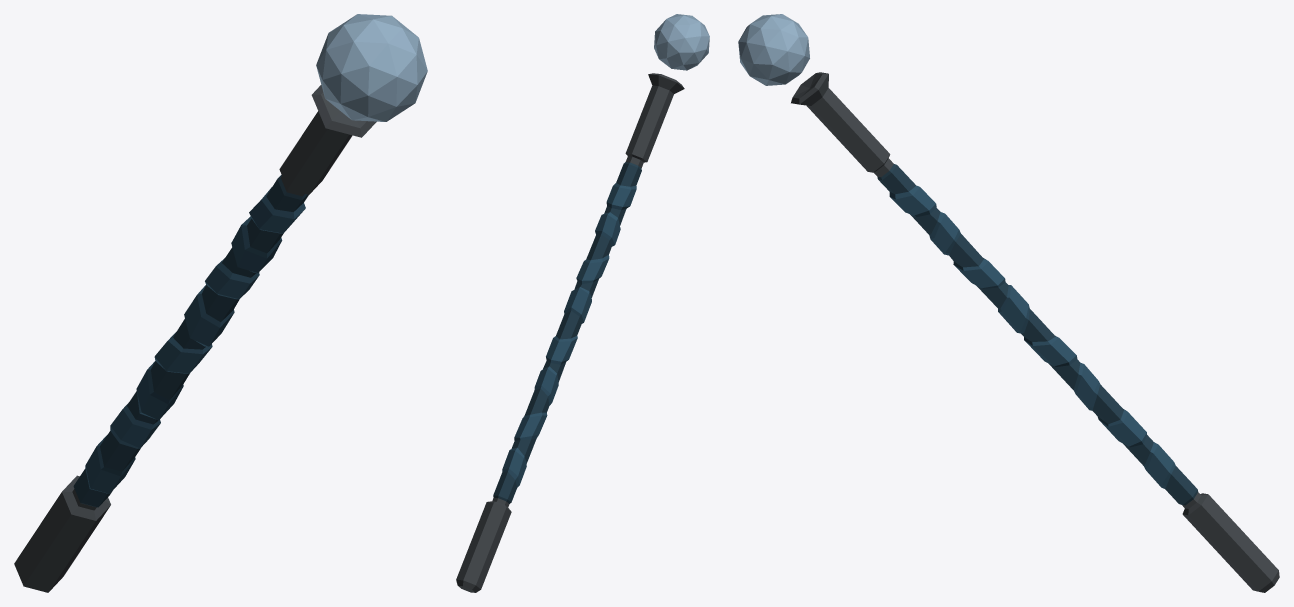
File: fk-staff-13.glb
3 renders of one model, left to right at view 1: azimuth 30°, elevation 25°; view 2: azimuth 150°, elevation 25°; view 3: azimuth 270°, elevation 25°, orthographic. The views are drawn at different scales.
Visible parts, largest first — view 1: fk-staff-13; view 2: fk-staff-13; view 3: fk-staff-13.
Boxes of the visible parts, x1,y1,x2,y2 form: fk-staff-13: (14,14,427,592); fk-staff-13: (456,14,709,592); fk-staff-13: (738,14,1279,592).
Size of the model in its own units: 0.1527 by 1.16 by 1.01.
Materials: 1 (1 with a texture image).
